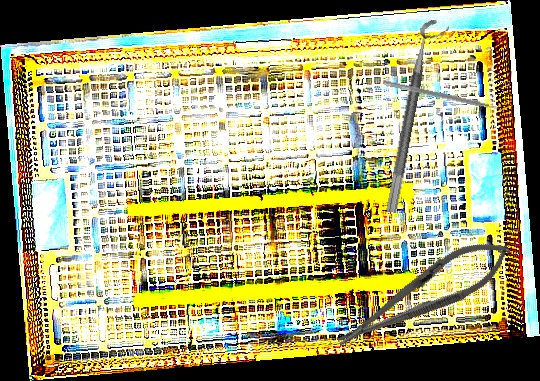Fixation Ring: (384, 17, 451, 217)
Needle Holder: (326, 226, 520, 363)
Spatula Surgical: (382, 80, 507, 117)
